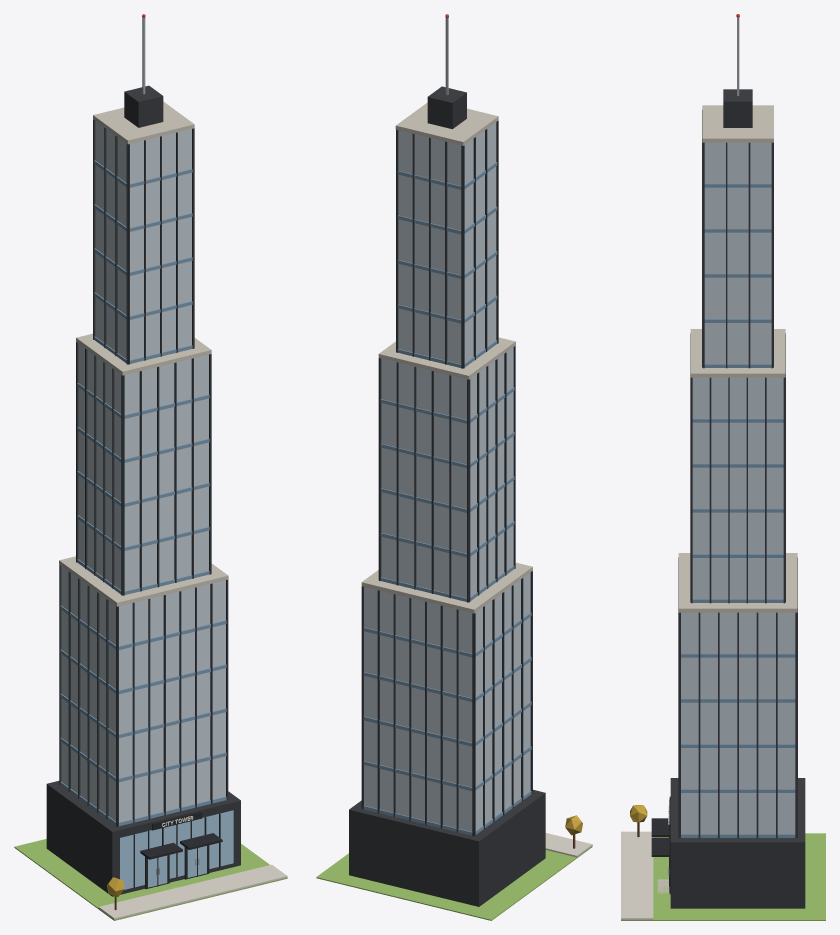
Rendered from Buro_is_kulesi_3_Hafif.fbx.
3 views of the same model, side by side, from view 1: azimuth 30°, elevation 25°; view 2: azimuth 150°, elevation 25°; view 3: azimuth 270°, elevation 25° (orthographic). The views are drawn at different scales.
Parts seen in each view (by area): view 1: Buro_is_kulesi_3_Hafif; view 2: Buro_is_kulesi_3_Hafif; view 3: Buro_is_kulesi_3_Hafif.
Part boxes in pixels (x1,y1,x2,y2): Buro_is_kulesi_3_Hafif: (14,14,287,920); Buro_is_kulesi_3_Hafif: (316,14,592,920); Buro_is_kulesi_3_Hafif: (621,14,825,920).
Bounding box in the file's own units: 14 × 65.15 × 14.
